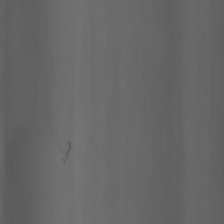water_spot: (58, 126, 74, 170)
